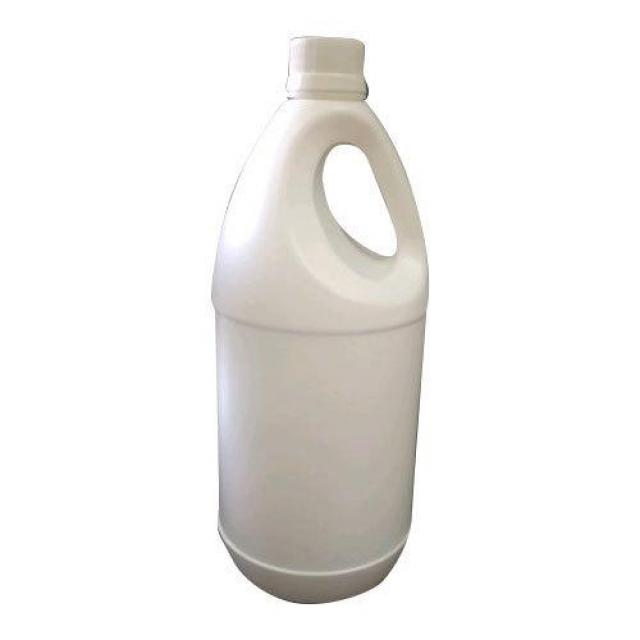plastic_bottle: (201, 22, 453, 611)
